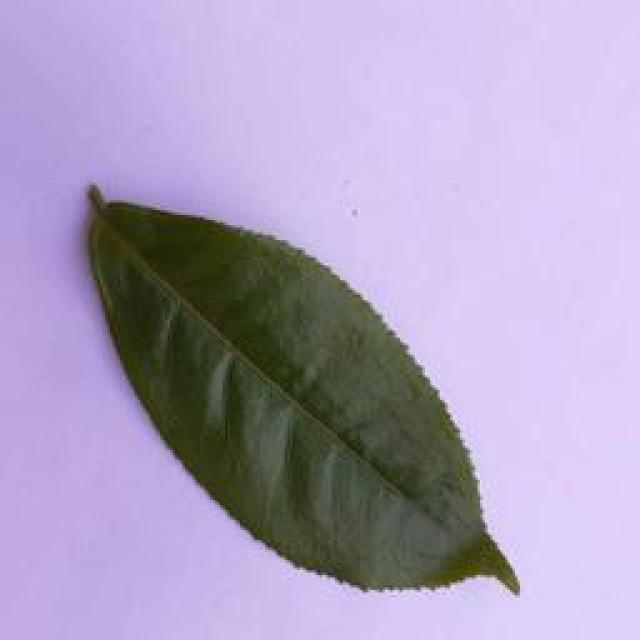Healthy: (78, 174, 520, 602)
